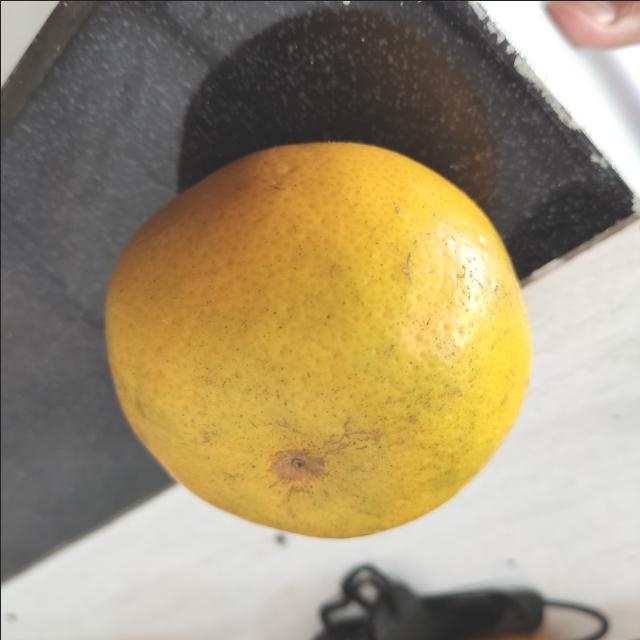agrume: (102, 140, 534, 540)
